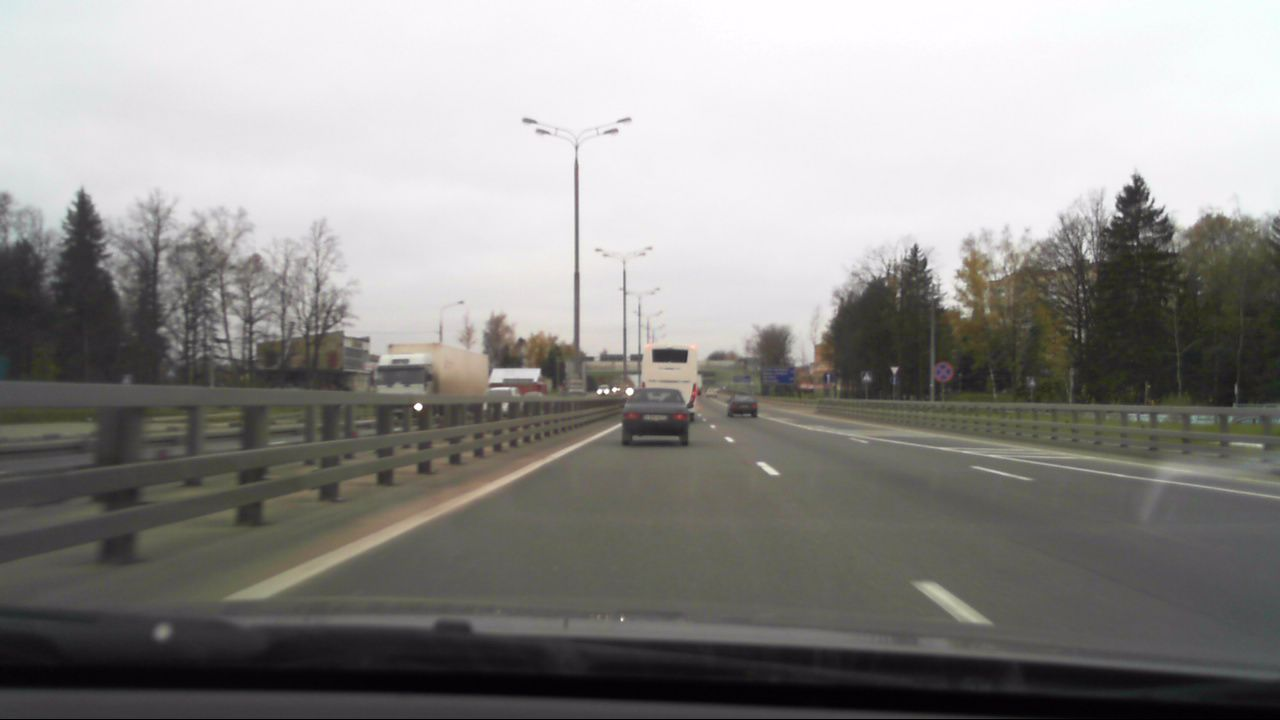No Parking: (932, 361, 953, 382)
